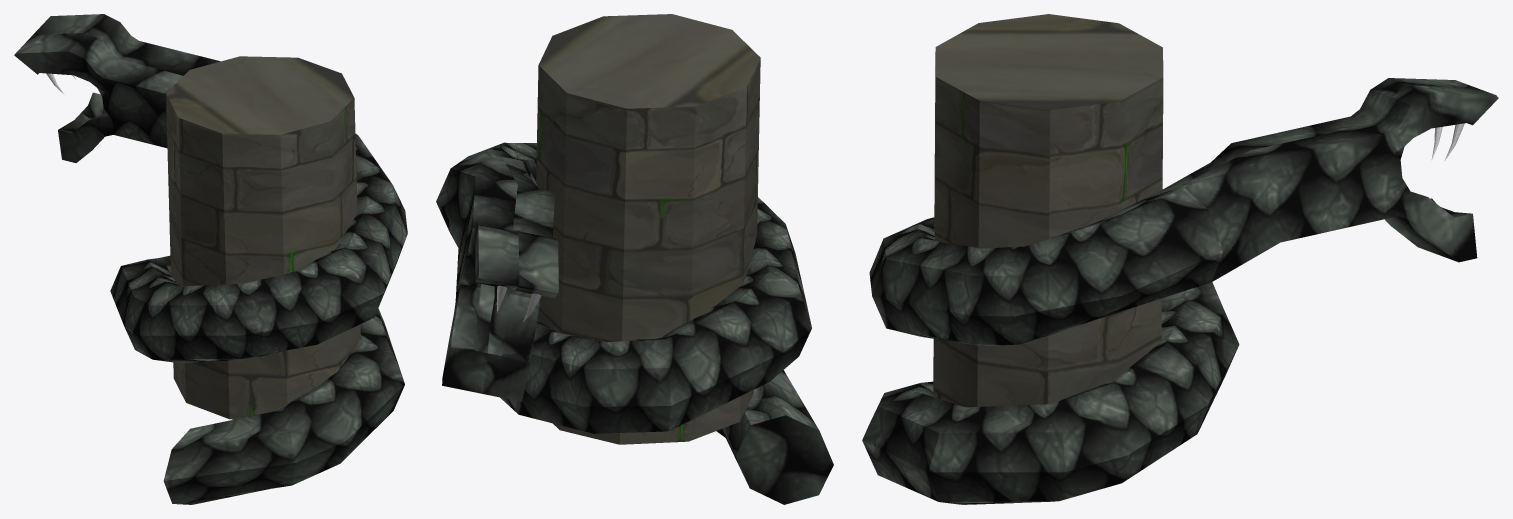
File: SM_Pillar_Top.fbx
The picture shows the model from 3 angles, left to right: view 1: azimuth 30°, elevation 25°; view 2: azimuth 150°, elevation 25°; view 3: azimuth 270°, elevation 25°; orthographic projection. The views are drawn at different scales.
Parts seen in each view (by area): view 1: polySurface43; view 2: polySurface43; view 3: polySurface43.
Boxes of the visible parts, x1,y1,x2,y2 form: polySurface43: (14,14,407,504); polySurface43: (436,14,833,504); polySurface43: (862,14,1498,504).
Bounding box in the file's own units: 0.812 × 1.08 × 1.33.
